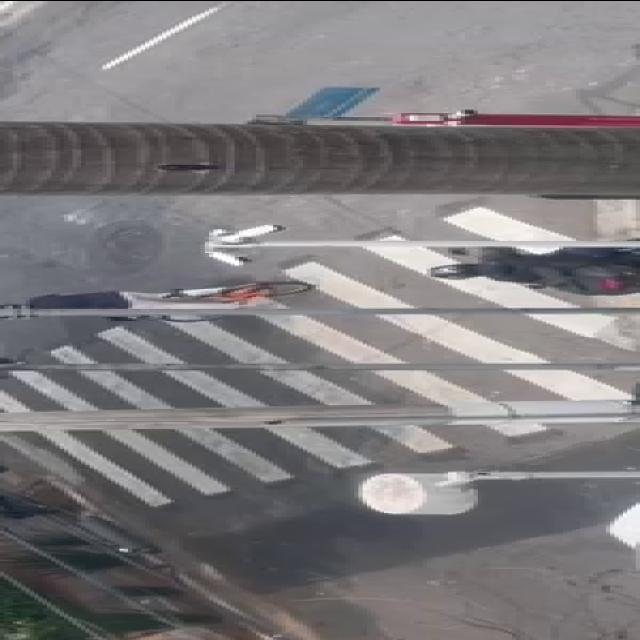bicycle: (0, 274, 311, 328)
motorbike: (422, 238, 640, 294)
